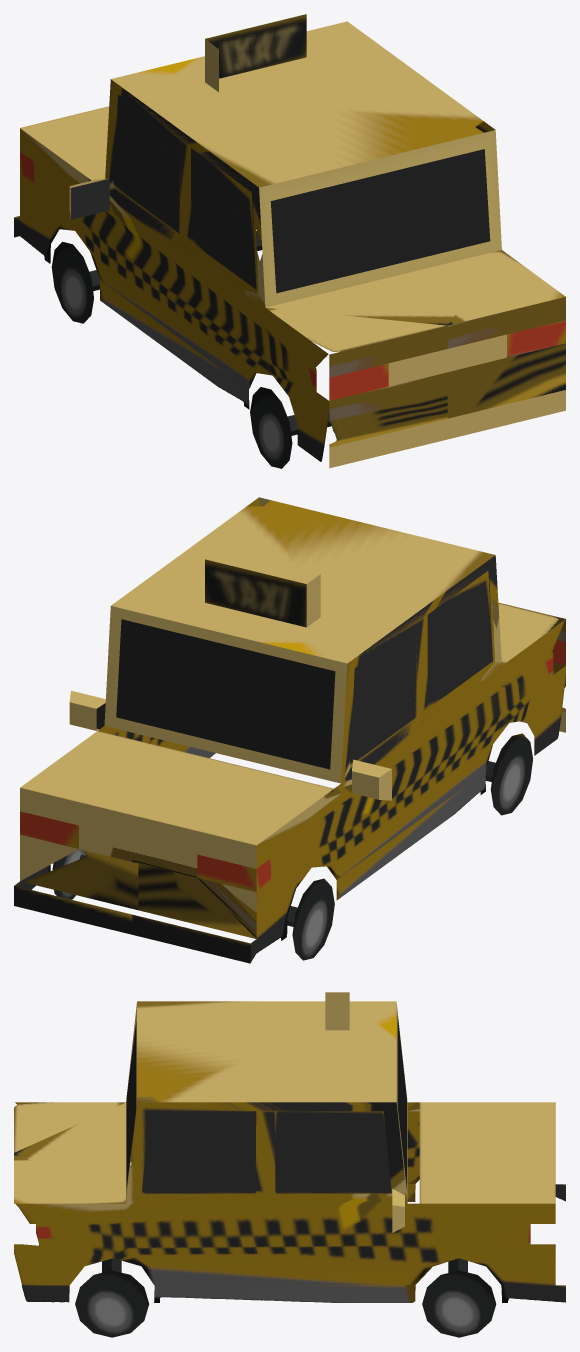
Rendered from taxi4.FBX.
3 views of the same model, one above another, from view 1: azimuth 30°, elevation 25°; view 2: azimuth 150°, elevation 25°; view 3: azimuth 270°, elevation 25° (orthographic). The views are drawn at different scales.
Parts seen in each view (by area): view 1: taxi_seperate_mesh, taxi_rl_wheel_mesh, taxi_fl_wheel_mesh; view 2: taxi_seperate_mesh, taxi_rl_wheel_mesh, taxi_fl_wheel_mesh; view 3: taxi_seperate_mesh, taxi_rr_wheel_mesh, taxi_fr_wheel_mesh.
Part boxes in pixels (<box>): taxi_seperate_mesh: <box>14,14,565,468</box>; taxi_rl_wheel_mesh: <box>250,387,292,468</box>; taxi_fl_wheel_mesh: <box>51,241,93,323</box>; taxi_seperate_mesh: <box>14,497,565,963</box>; taxi_rl_wheel_mesh: <box>490,733,532,815</box>; taxi_fl_wheel_mesh: <box>292,878,334,960</box>; taxi_seperate_mesh: <box>14,992,565,1302</box>; taxi_rr_wheel_mesh: <box>75,1270,149,1337</box>; taxi_fr_wheel_mesh: <box>422,1270,496,1337</box>.
Bounding box in the file's own units: 1.31 × 1.21 × 2.23.
Materials: 1 (1 with a texture image).
